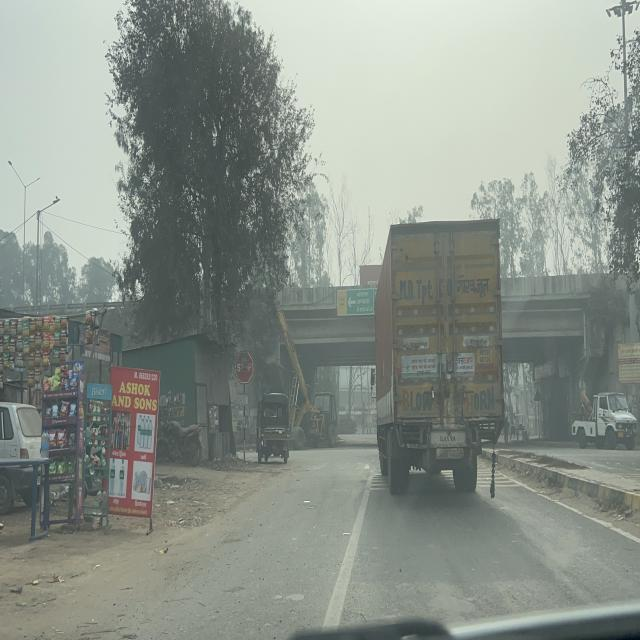STOP: (235, 349, 254, 384)
